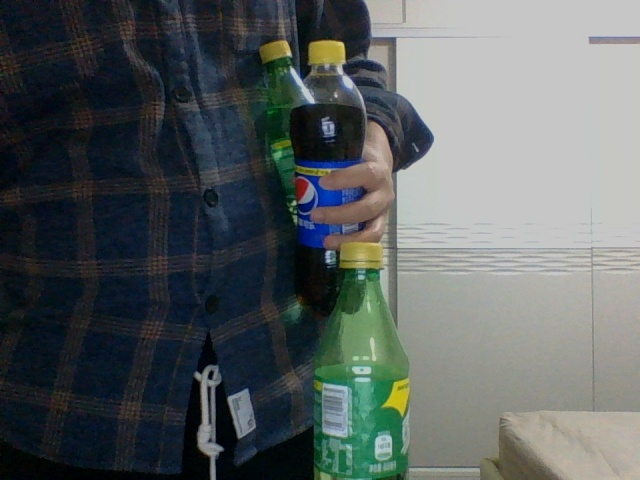Cola: (289, 39, 368, 314)
Sprite: (311, 242, 413, 476)
